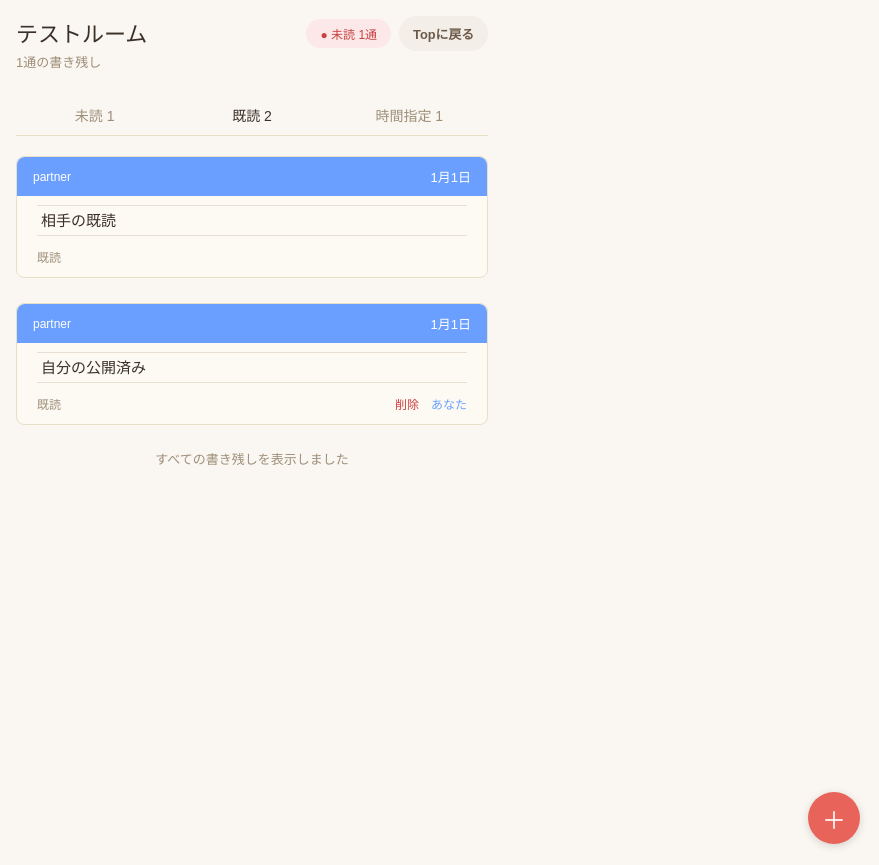
Scenario: PostList のタブ振り分け › 未読タブには相手の未読が封筒で出る（本文は見えない・削除ボタンなし）
Click the button "未読 1": (95, 115) [16,95,173,135]
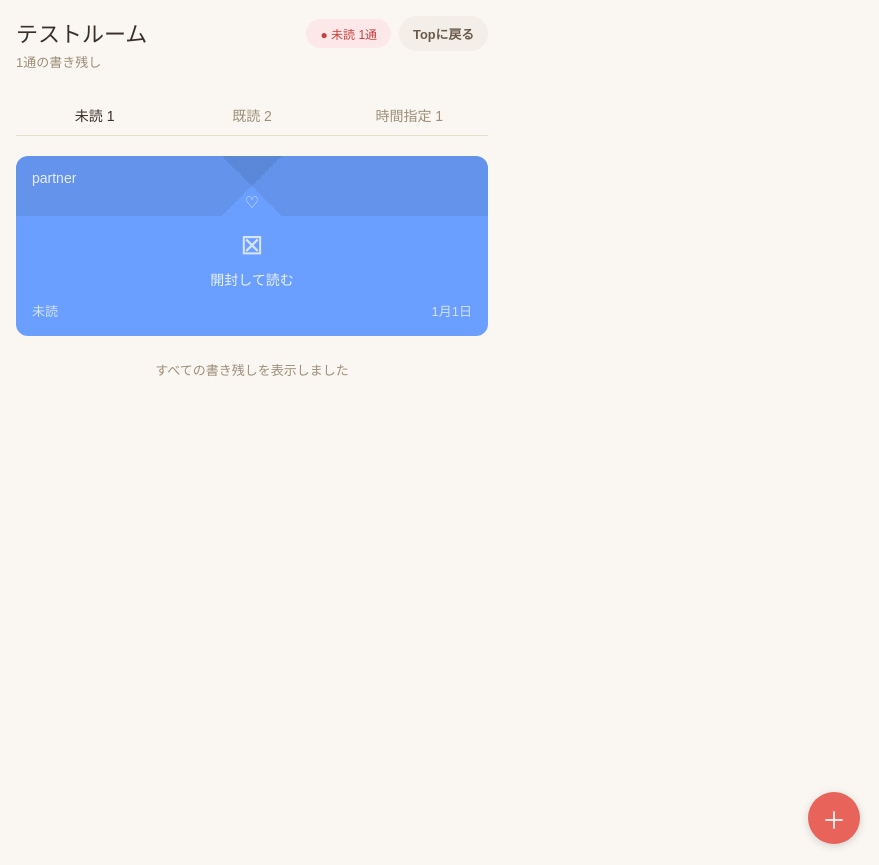
Result: the text "開封して読む" is shown once at [210,269,294,289]
Result: the button "削除" is gone
